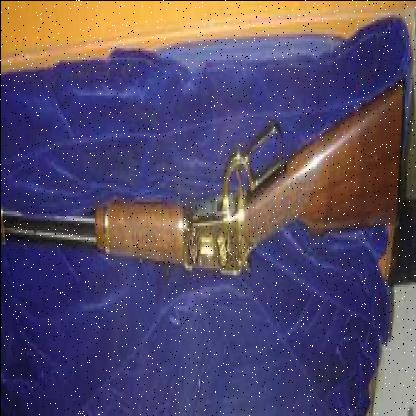rifle: (1, 92, 402, 374)
